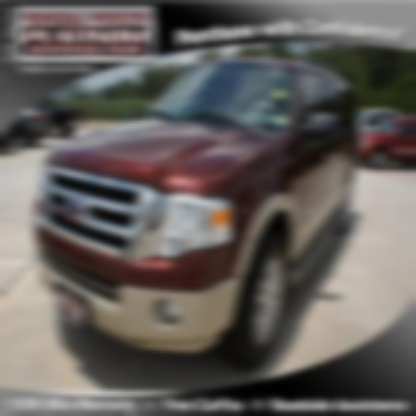Vehicle: (33, 59, 361, 374)
